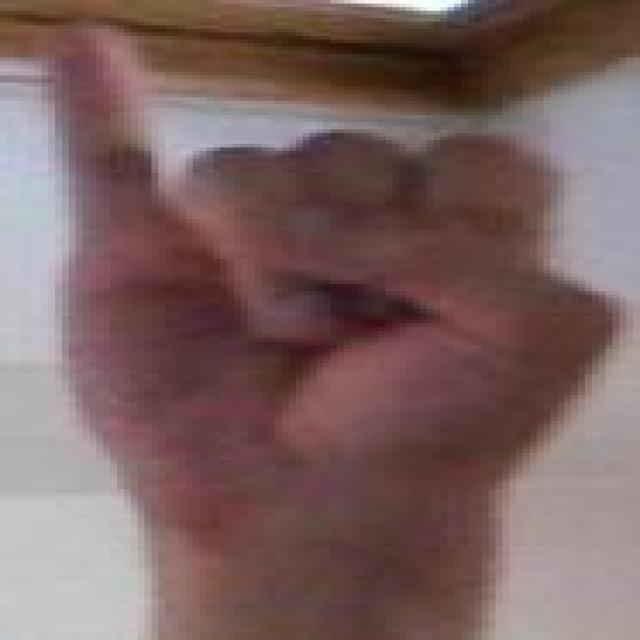I: (14, 18, 619, 552)
